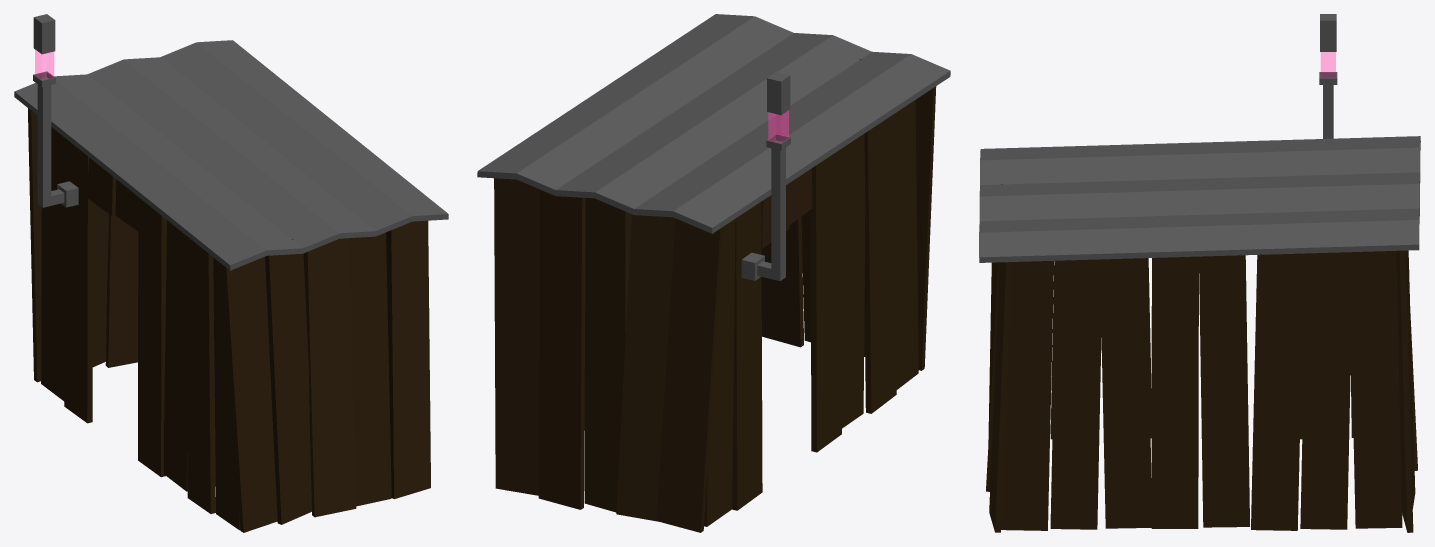
The model's file is GeneratorShack.fbx.
3 renders of one model, left to right at view 1: azimuth 30°, elevation 25°; view 2: azimuth 150°, elevation 25°; view 3: azimuth 270°, elevation 25°, orthographic. The views are drawn at different scales.
Parts seen in each view (by area): view 1: Cube.024, Cube.021, Cube.019, Cube.022, Cube.023, Cube.020, Cube.001, Cube.011, Cube.003, Cube.002, Cube.010, Cube.016 (+6 smaller); view 2: Cube.024, Cube.012, Cube.017, Cube.018, Cube.004, Cube.016, Cube.003, Cube.001, Cube.011, Cube.002, Cube, Cube.010 (+6 smaller); view 3: Cube.024, Cube.015, Cube.013, Cube.014, Cube.005, Cube.006, Cube.007, Cube.008, Cube.009, Cube.019, Cube.018, Cube.025 (+4 smaller).
Boxes of the visible parts, x1,y1,x2,y2 form: Cube.024: [14, 40, 448, 270]; Cube.021: [305, 238, 356, 517]; Cube.019: [387, 220, 430, 499]; Cube.022: [223, 256, 277, 532]; Cube.023: [265, 239, 311, 524]; Cube.020: [349, 232, 391, 506]; Cube.001: [185, 235, 215, 513]; Cube.011: [64, 138, 92, 423]; Cube.003: [138, 197, 166, 477]; Cube.002: [164, 220, 187, 491]; Cube.010: [41, 127, 64, 401]; Cube.016: [105, 214, 138, 367]; Cube.024: [477, 14, 950, 233]; Cube.012: [656, 218, 723, 532]; Cube.017: [538, 190, 585, 509]; Cube.018: [494, 178, 540, 495]; Cube.004: [616, 214, 675, 521]; Cube.016: [584, 198, 628, 512]; Cube.003: [810, 149, 841, 452]; Cube.001: [864, 115, 896, 413]; Cube.011: [732, 202, 762, 510]; Cube.002: [841, 134, 865, 428]; Cube: [893, 100, 918, 389]; Cube.010: [704, 219, 735, 526]; Cube.024: [979, 136, 1420, 262]; Cube.015: [1349, 251, 1402, 528]; Cube.013: [1251, 253, 1304, 530]; Cube.014: [1300, 252, 1351, 529]; Cube.005: [1199, 255, 1249, 527]; Cube.006: [1151, 256, 1198, 528]; Cube.007: [1099, 258, 1152, 528]; Cube.008: [1050, 259, 1101, 529]; Cube.009: [1001, 261, 1053, 530]; Cube.019: [989, 262, 1012, 532]; Cube.018: [1396, 250, 1413, 532]; Cube.025: [1319, 14, 1337, 138].
Size of the model in its own units: 1476 by 936 by 1502.
